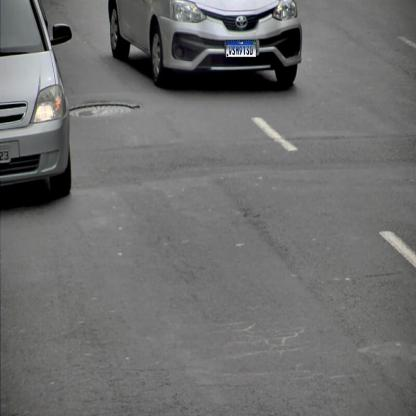PlacaM: (226, 40, 256, 58)
